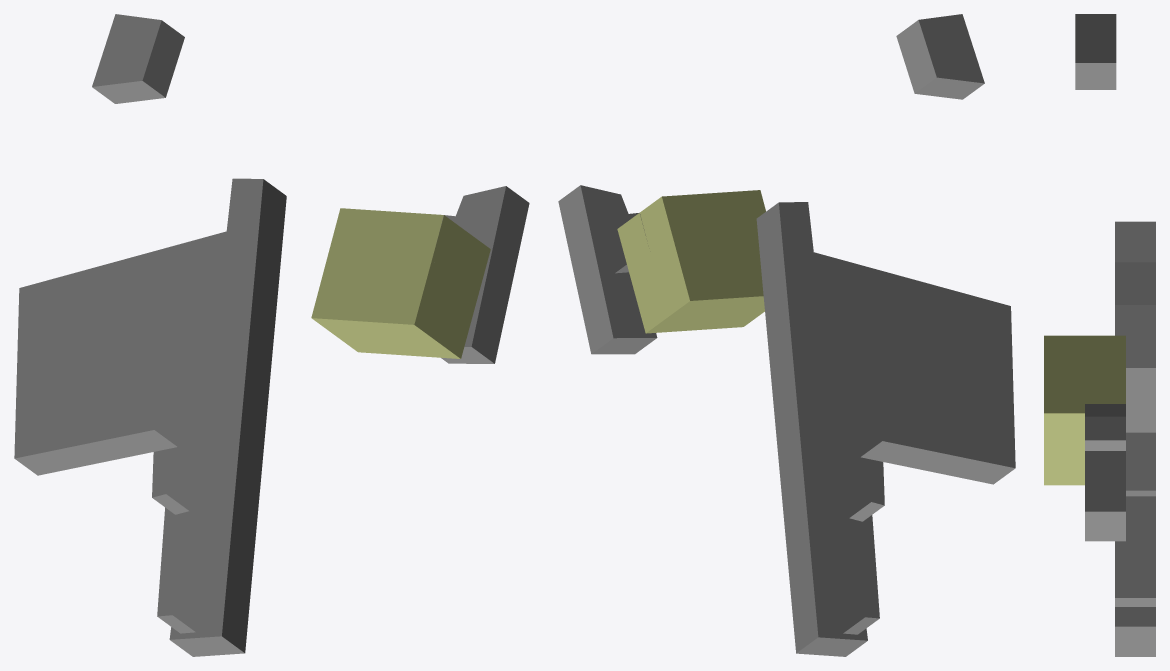
The picture shows the model from 3 angles, left to right: view 1: azimuth 30°, elevation 25°; view 2: azimuth 150°, elevation 25°; view 3: azimuth 270°, elevation 25°; orthographic projection. The views are drawn at different scales.
Parts seen in each view (by area): view 1: 0_1_0_0_0_1_2_1_0; view 2: 0_1_0_0_0_1_2_1_0; view 3: 0_1_0_0_0_1_2_1_0.
Boxes of the visible parts, box(x1,y1,x2,y2) form: 0_1_0_0_0_1_2_1_0: box(14, 14, 529, 656); 0_1_0_0_0_1_2_1_0: box(558, 14, 1015, 656); 0_1_0_0_0_1_2_1_0: box(1044, 14, 1155, 656).
Bounding box in the file's own units: 35.19 × 47.49 × 8.2.
